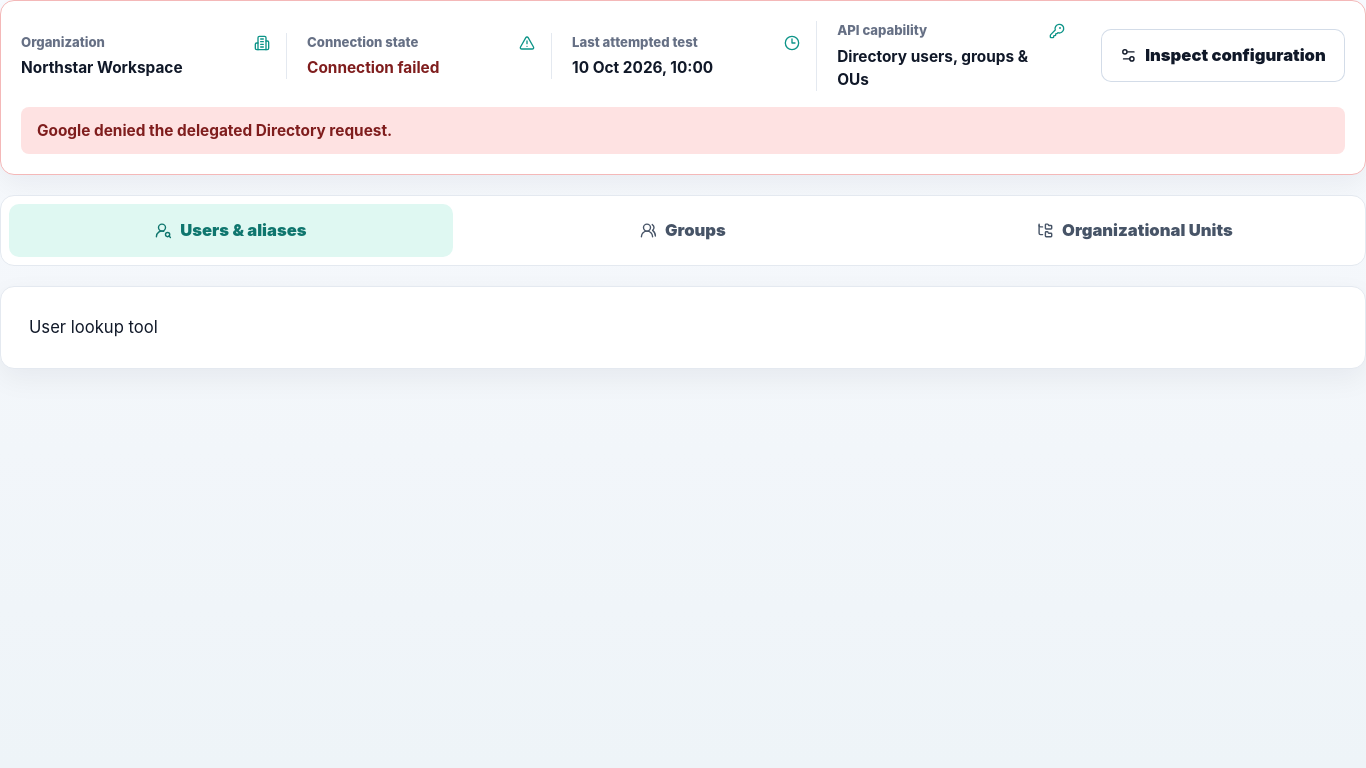
Test: GoogleWorkspaceAdministration › shows the persisted connection failure and an inspection action
Expected: the text "Connection failed" is shown, [307,58,439,77]
Expected: the message shows "Google denied", [37,121,392,140]
Click the button "Inspect configuration" at (1223, 56), box [1101,29,1345,82]
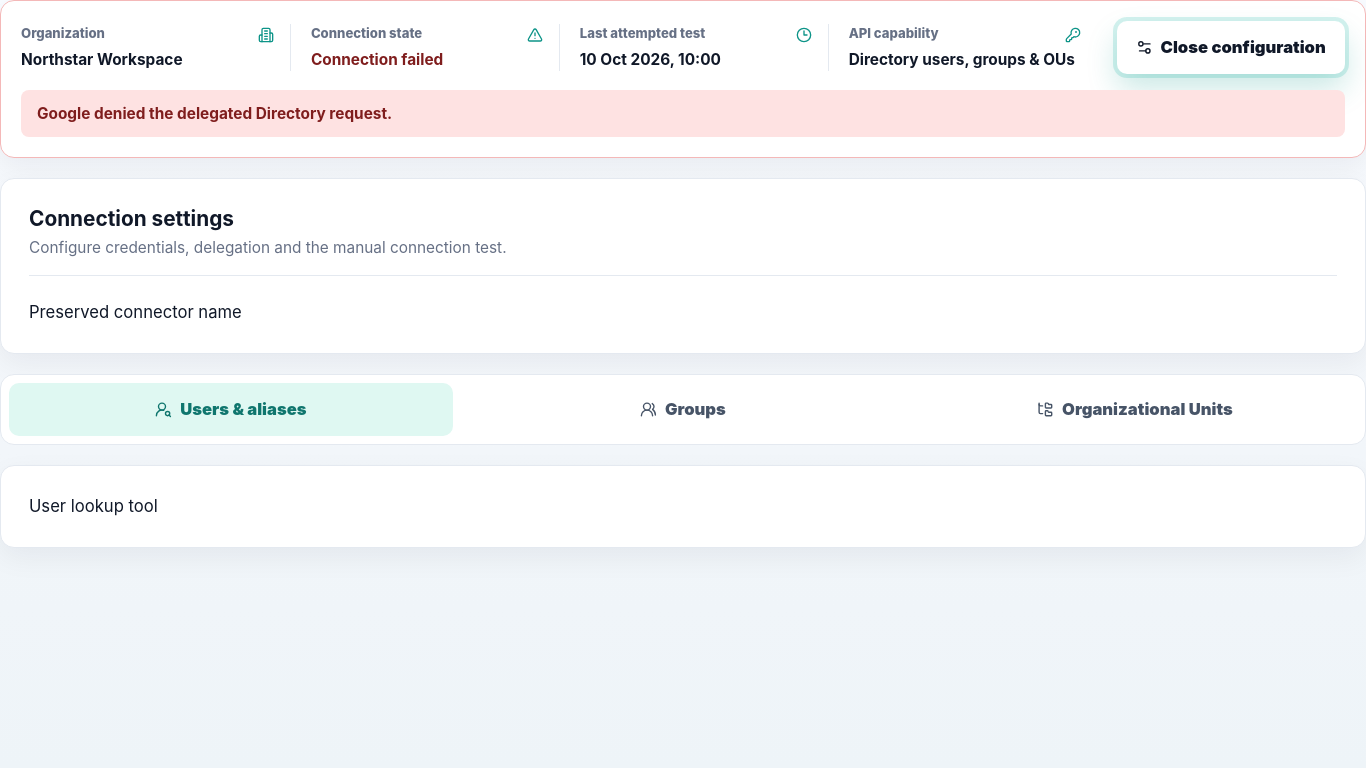
Expected: the text "Preserved connector name" is shown, [29,302,242,322]
